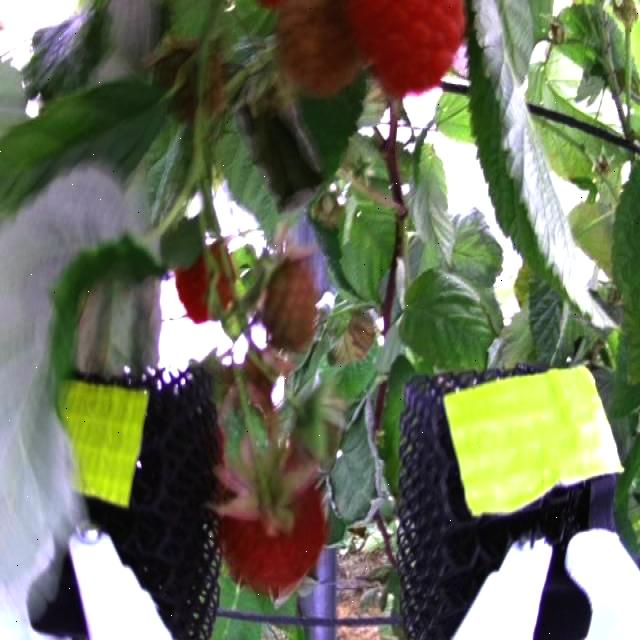Riped berries: (219, 438, 334, 596), (349, 0, 467, 112), (174, 236, 234, 320)
